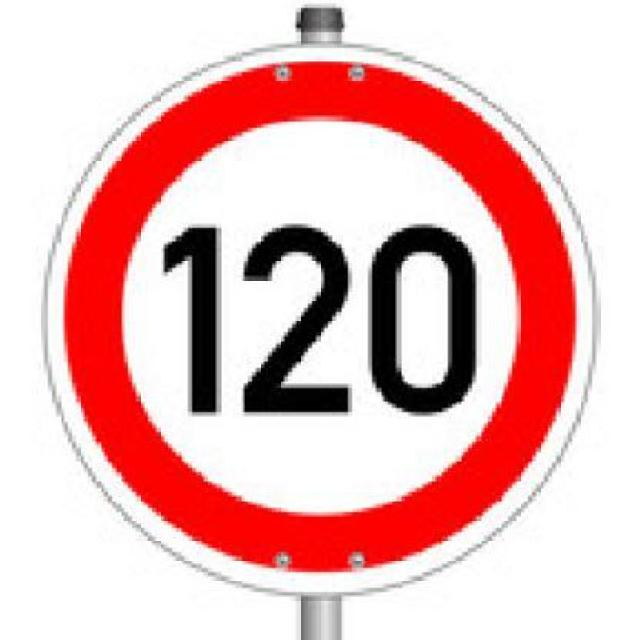forb_speed_over_120: (52, 53, 592, 592)
